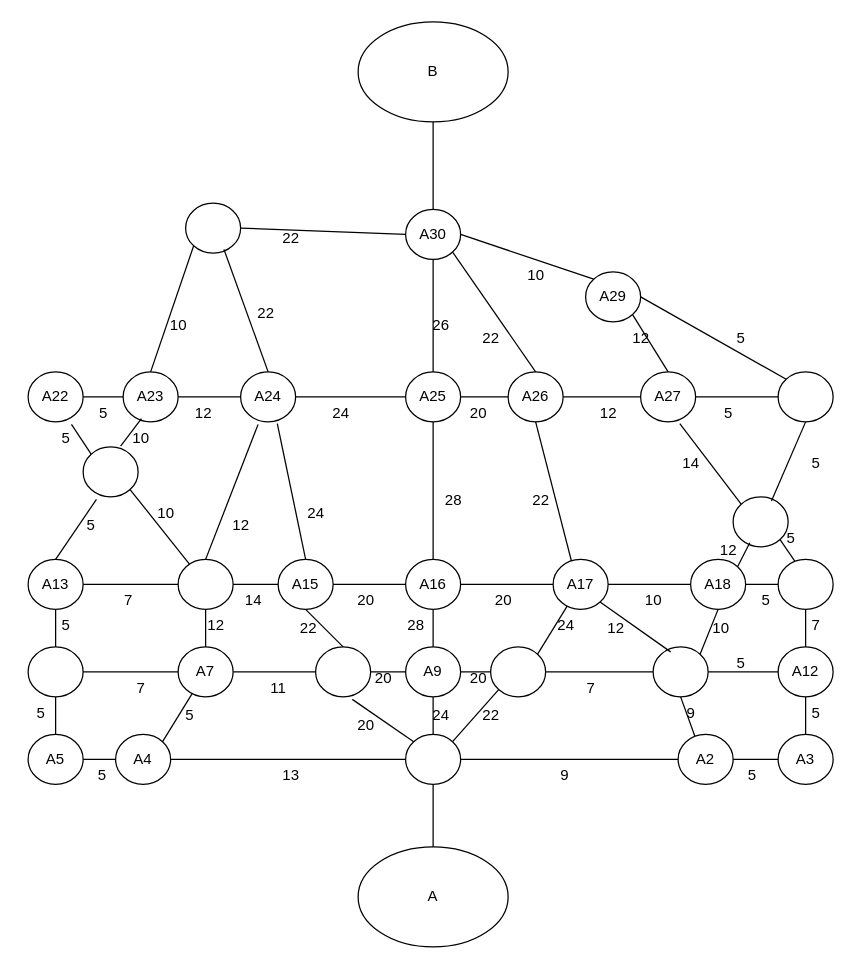
Image size: 855x969. Some labels were removed from this diagram. Here are the shapes that lost their labels. From the top down, the centre of each, then its label:
At (x=212, y=227): "A31".
At (x=805, y=396): "A28".
At (x=110, y=471): "A21".
At (x=760, y=521): "A20".
At (x=205, y=583): "A14".
At (x=805, y=583): "A19".
At (x=55, y=671): "A6".
At (x=342, y=671): "A8".
At (x=517, y=671): "A10".
At (x=680, y=671): "A11".
At (x=432, y=758): "A1".
